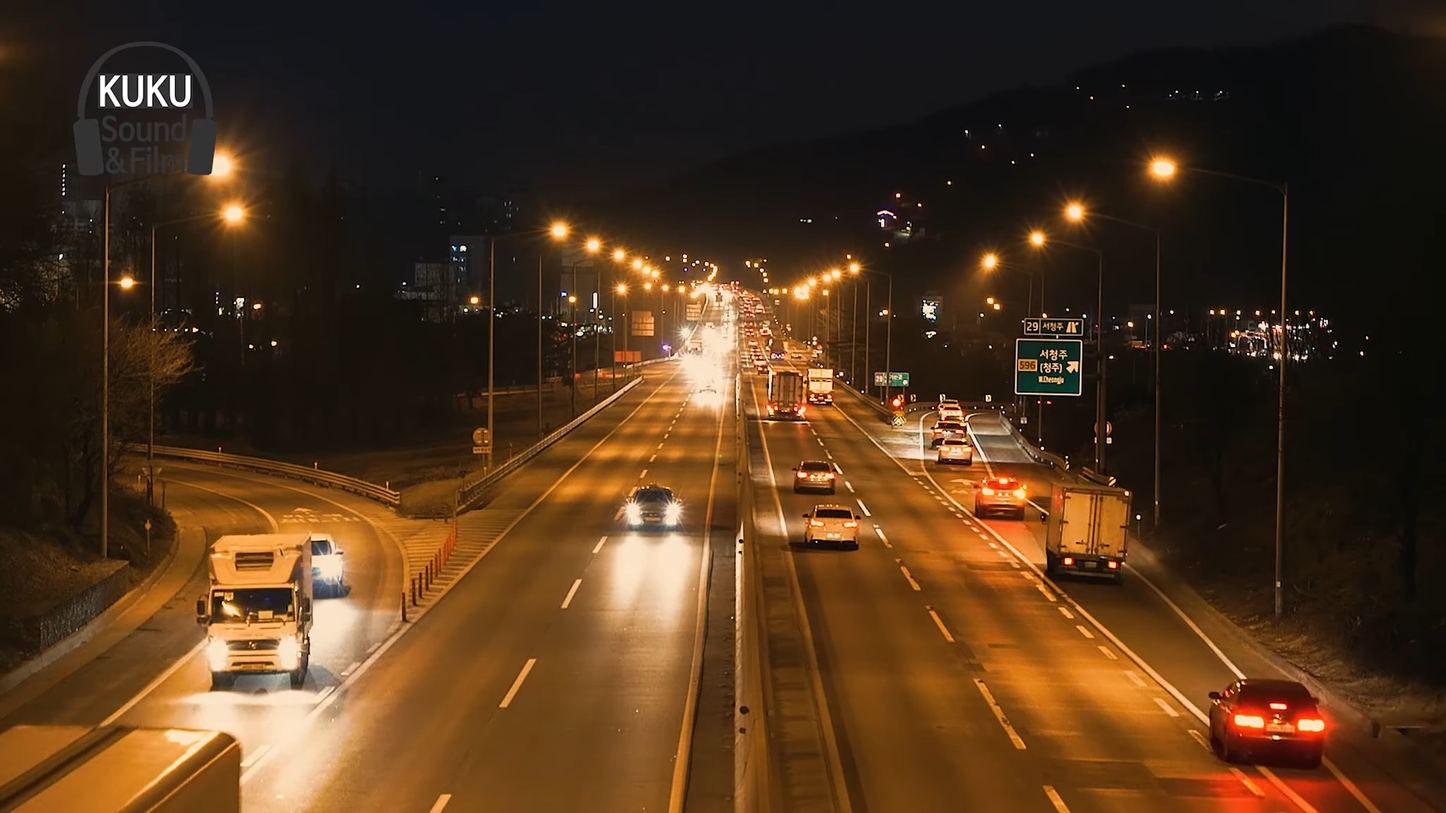car: (1209, 674, 1333, 759), (622, 491, 679, 529), (973, 477, 1027, 515), (807, 505, 857, 542), (791, 457, 840, 494)
truck: (200, 533, 315, 696), (1045, 478, 1133, 583)
